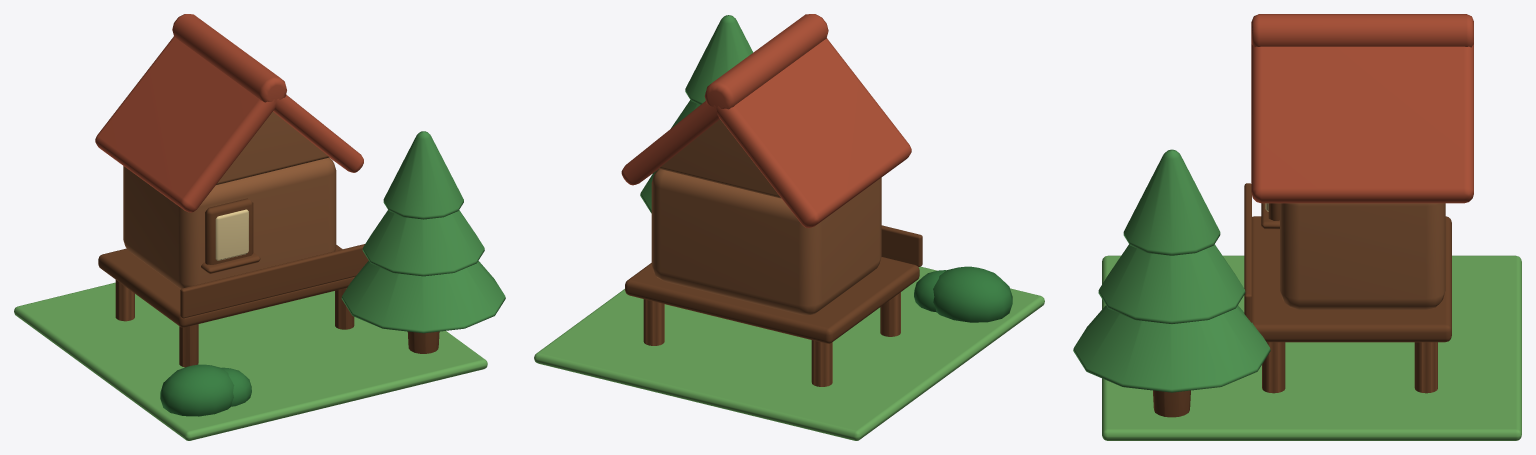
The picture shows the model from 3 angles, left to right: view 1: azimuth 30°, elevation 25°; view 2: azimuth 150°, elevation 25°; view 3: azimuth 270°, elevation 25°; orthographic projection. The views are drawn at different scales.
Parts seen in each view (by area): view 1: Cube; view 2: Cube; view 3: Cube.
Boxes of the visible parts, x1=… form: Cube: x1=14, y1=14, x2=505, y2=440; Cube: x1=534, y1=14, x2=1044, y2=440; Cube: x1=1073, y1=14, x2=1521, y2=440.
Bounding box in the file's own units: 0.7354 × 0.6 × 0.7054.
